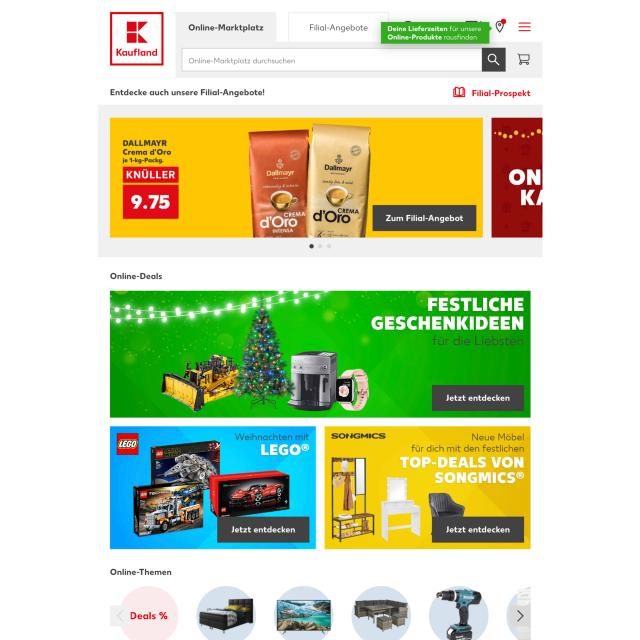CheckBox: (431, 384, 525, 411), (216, 515, 310, 542), (432, 516, 525, 543), (447, 80, 536, 101), (444, 524, 514, 535), (482, 47, 506, 72)
CheckedTextView: (182, 47, 507, 73)
bag: (96, 0, 544, 105)
breadcrumbs: (108, 566, 174, 578), (106, 270, 166, 282)
card: (111, 117, 482, 238)
carousel: (494, 14, 508, 37), (486, 52, 504, 68), (451, 84, 468, 100), (516, 19, 533, 34), (516, 51, 530, 68)
copy: (111, 290, 530, 417), (325, 425, 530, 550), (110, 426, 316, 549)
data feed: (444, 391, 511, 405), (230, 523, 298, 535), (471, 86, 534, 98)
date picker: (106, 10, 166, 70)
footer: (187, 54, 297, 66)
icon: (177, 11, 389, 45)
